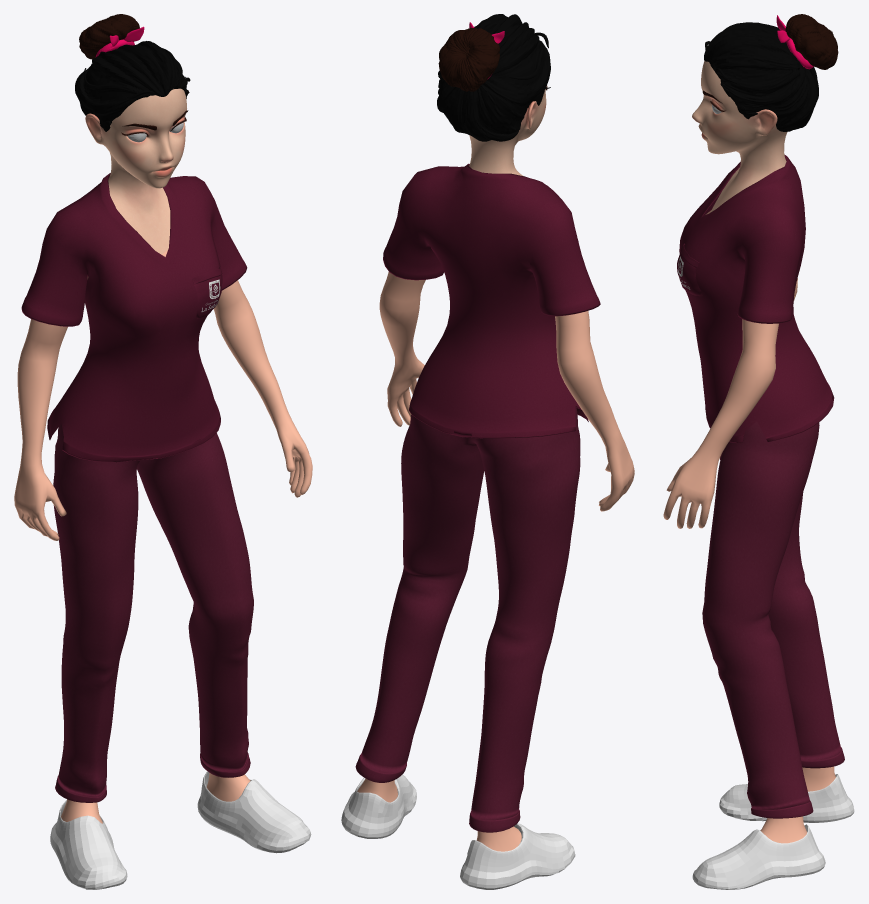
Rendered from Pose_Fisioterapeuta.fbx.
The picture shows the model from 3 angles, left to right: view 1: azimuth 30°, elevation 25°; view 2: azimuth 150°, elevation 25°; view 3: azimuth 270°, elevation 25°; orthographic projection. The views are drawn at different scales.
Visible parts, largest first — view 1: pantalon_low, camisa_low, body_low_copy1, face_low, zapatos_low, base_head_low-001, bollo_low, Bolsillo Camisa.001; view 2: pantalon_low, camisa_low, body_low_copy1, base_head_low-001, zapatos_low, bollo_low, face_low; view 3: pantalon_low, camisa_low, body_low_copy1, base_head_low-001, zapatos_low, face_low, bollo_low, Bolsillo Camisa.001, moña.
Boxes of the visible parts, <box> form: pantalon_low: <box>53,423,253,802</box>; camisa_low: <box>21,173,247,462</box>; body_low_copy1: <box>14,250,312,823</box>; face_low: <box>85,88,186,254</box>; zapatos_low: <box>50,771,311,889</box>; base_head_low-001: <box>75,41,190,131</box>; bollo_low: <box>79,14,139,59</box>; Bolsillo Camisa.001: <box>192,267,222,318</box>; pantalon_low: <box>355,406,580,832</box>; camisa_low: <box>383,163,600,438</box>; body_low_copy1: <box>357,271,634,851</box>; base_head_low-001: <box>437,14,550,141</box>; zapatos_low: <box>341,774,575,889</box>; bollo_low: <box>438,28,499,91</box>; face_low: <box>469,86,546,176</box>; pantalon_low: <box>702,421,844,818</box>; camisa_low: <box>679,154,834,442</box>; body_low_copy1: <box>663,161,835,843</box>; base_head_low-001: <box>704,22,818,131</box>; zapatos_low: <box>692,774,854,889</box>; face_low: <box>692,61,787,211</box>; bollo_low: <box>785,14,838,69</box>; Bolsillo Camisa.001: <box>677,243,702,296</box>; moña: <box>776,15,813,69</box>.
Bounding box in the file's own units: 959 × 2797 × 595.
